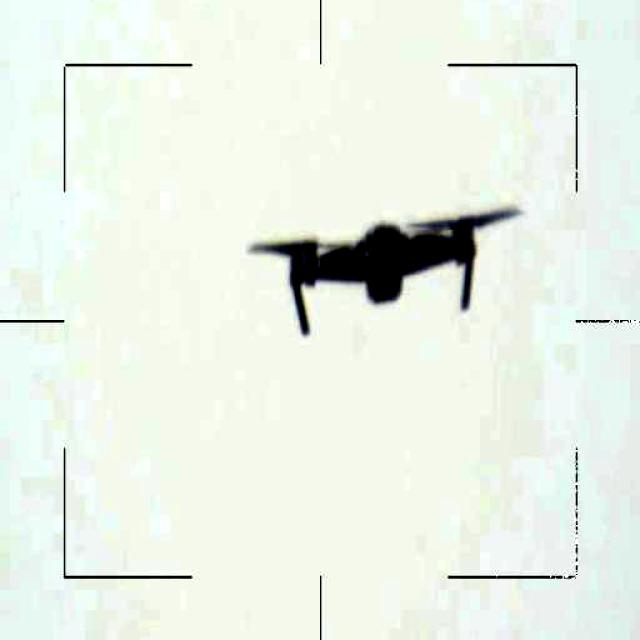bird: (242, 199, 529, 342)
